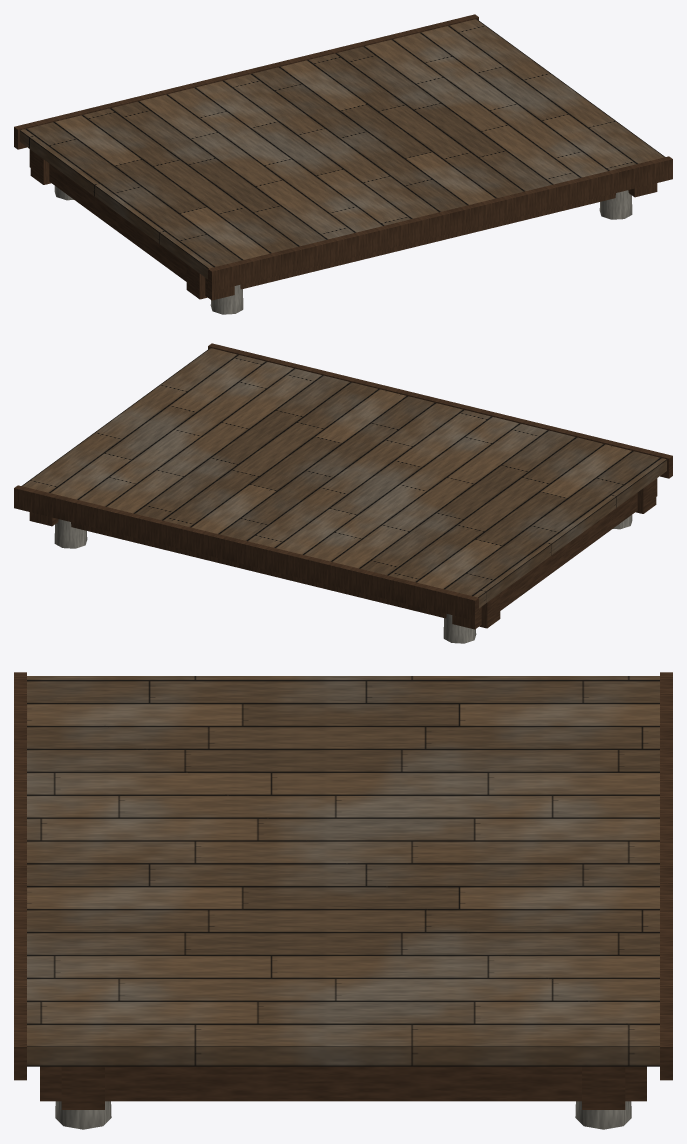
Rendered from SM_Art_Pier_405x300x100_P50.gltf.
The picture shows the model from 3 angles, top to bottom: view 1: azimuth 30°, elevation 25°; view 2: azimuth 150°, elevation 25°; view 3: azimuth 270°, elevation 25°; orthographic projection. The views are drawn at different scales.
Visible parts, largest first — view 1: SM_Art_Pier_405x300x100_P50; view 2: SM_Art_Pier_405x300x100_P50; view 3: SM_Art_Pier_405x300x100_P50.
Part boxes in pixels (<box>): SM_Art_Pier_405x300x100_P50: <box>14,14,672,314</box>; SM_Art_Pier_405x300x100_P50: <box>14,343,672,643</box>; SM_Art_Pier_405x300x100_P50: <box>14,672,672,1129</box>.
Bounding box in the file's own units: 4.09 × 0.51 × 3.04.
3 materials, 3 textured.
